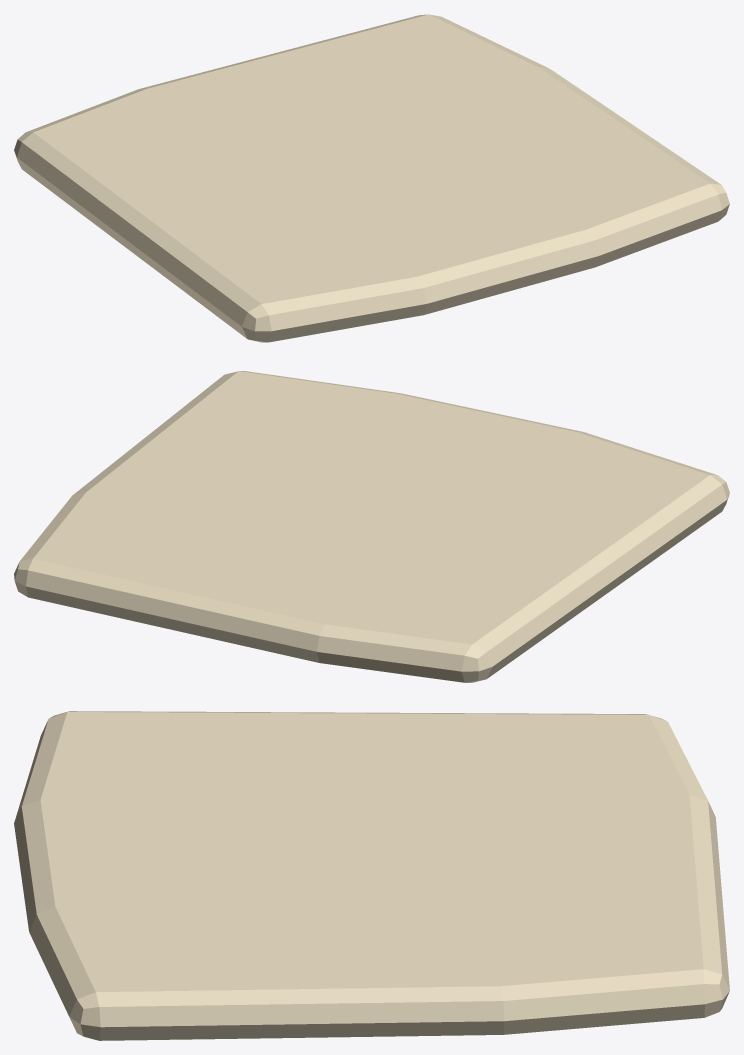
File: storybook_floor_tile.glb
The picture shows the model from 3 angles, top to bottom: view 1: azimuth 30°, elevation 25°; view 2: azimuth 150°, elevation 25°; view 3: azimuth 270°, elevation 25°; orthographic projection. The views are drawn at different scales.
Parts seen in each view (by area): view 1: StorybookFloorTile; view 2: StorybookFloorTile; view 3: StorybookFloorTile.
Boxes of the visible parts, x1,y1,x2,y2 form: StorybookFloorTile: (14, 14, 729, 342); StorybookFloorTile: (14, 371, 729, 682); StorybookFloorTile: (14, 711, 729, 1040).
Size of the model in its own units: 0.9484 by 0.07 by 0.9488.
